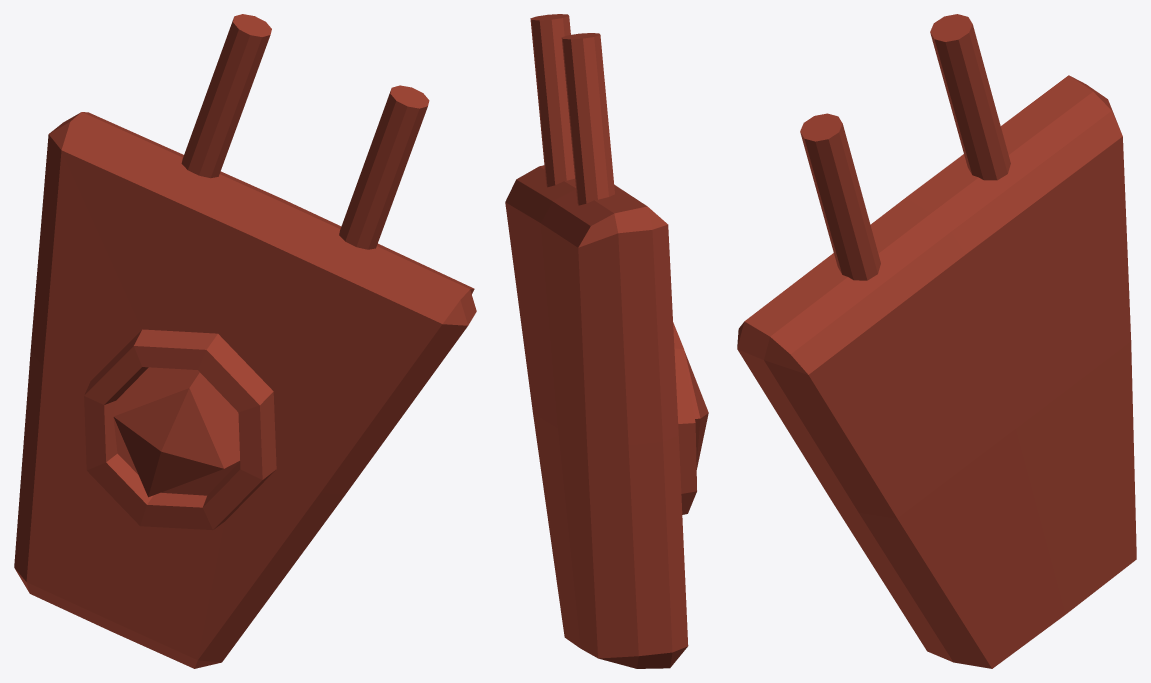
File: Fighter_03_Flap_Red.fbx
The picture shows the model from 3 angles, left to right: view 1: azimuth 30°, elevation 25°; view 2: azimuth 150°, elevation 25°; view 3: azimuth 270°, elevation 25°; orthographic projection. The views are drawn at different scales.
Parts seen in each view (by area): view 1: Fighter_03_Flap_Red; view 2: Fighter_03_Flap_Red; view 3: Fighter_03_Flap_Red.
Part boxes in pixels (left/top/right/bottom): Fighter_03_Flap_Red: left=14, top=14, right=476, bottom=668; Fighter_03_Flap_Red: left=505, top=14, right=708, bottom=668; Fighter_03_Flap_Red: left=737, top=14, right=1136, bottom=668.
Size of the model in its own units: 55.99 by 107 by 58.57.
1 material, 1 textured.
